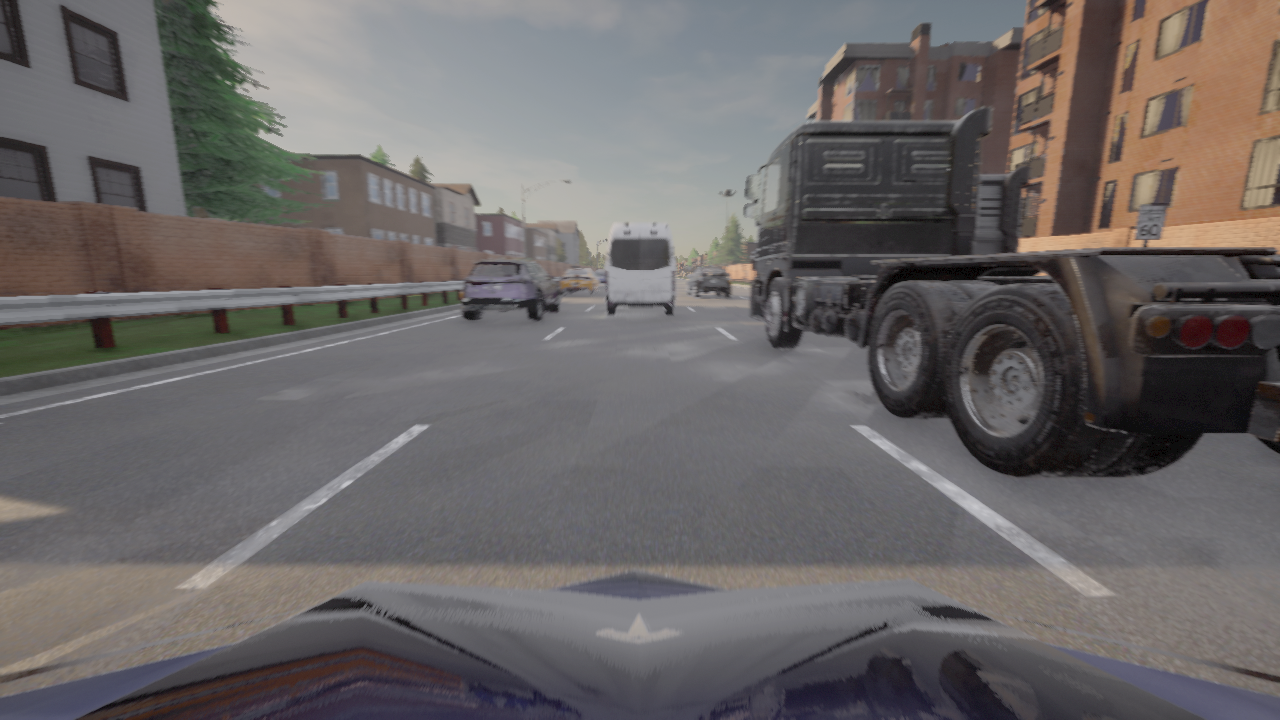cyclist: (744, 107, 1279, 477), (0, 569, 1279, 719), (974, 166, 1279, 276), (604, 223, 675, 315), (460, 258, 560, 320), (687, 267, 730, 297), (560, 268, 598, 294), (594, 270, 604, 283)
